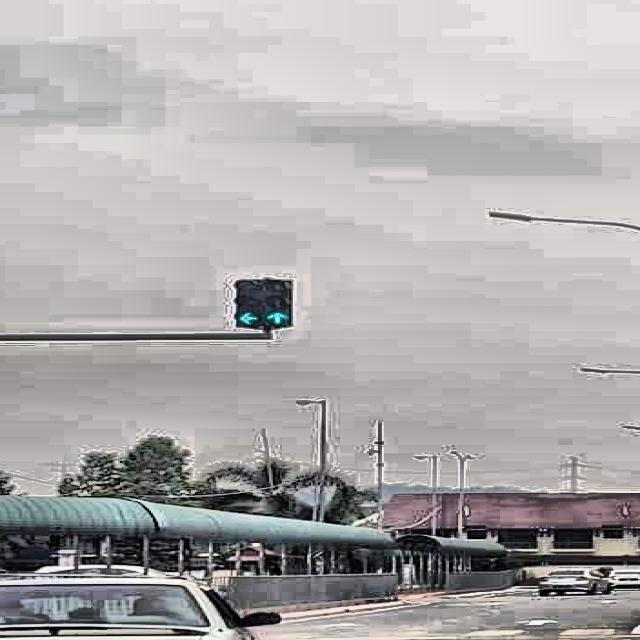green: (234, 279, 264, 328), (264, 280, 292, 327)
